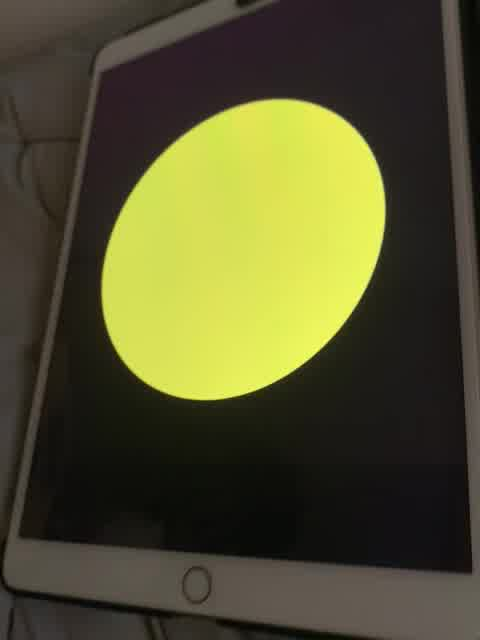left: (90, 89, 398, 411)
